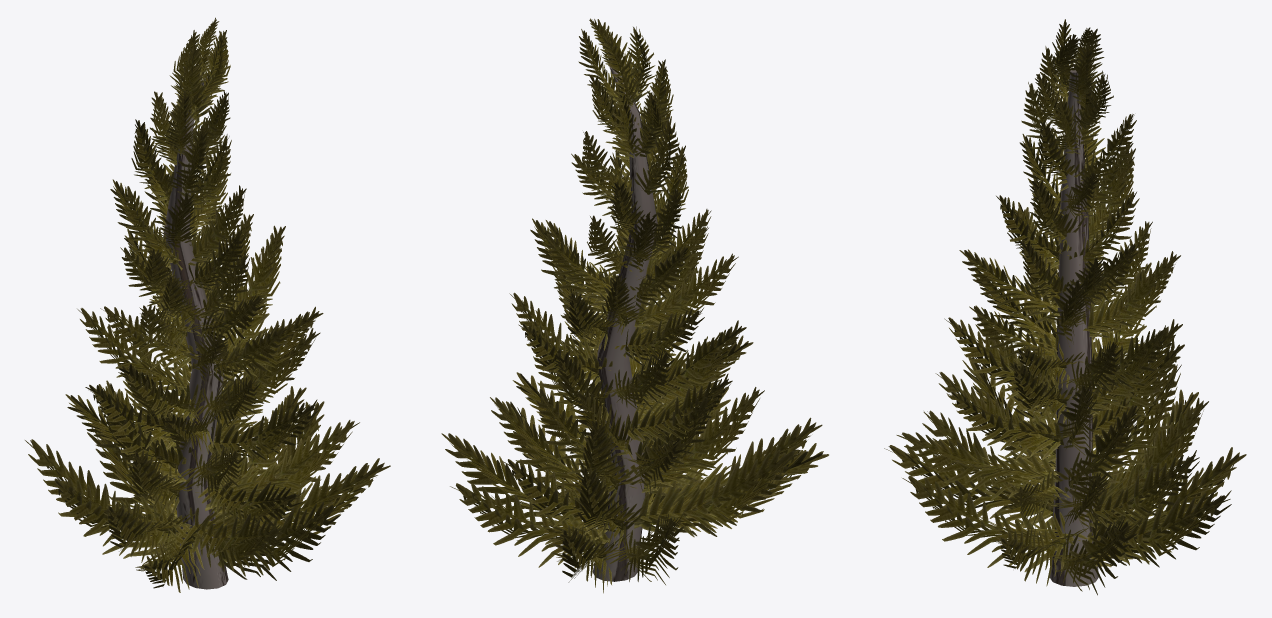
The model's file is Pinito.fbx.
The picture shows the model from 3 angles, left to right: view 1: azimuth 30°, elevation 25°; view 2: azimuth 150°, elevation 25°; view 3: azimuth 270°, elevation 25°; orthographic projection.
Parts seen in each view (by area): view 1: pinito; view 2: pinito; view 3: pinito.
Part boxes in pixels (x1,y1,x2,y2): pinito: (25,17,390,592); pinito: (441,18,828,593); pinito: (884,19,1246,595).
Size of the model in its own units: 3.98 by 6.32 by 3.93.
